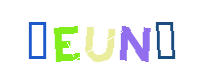2: (86, 0, 166, 80)
9: (24, 0, 104, 80)
E: (59, 0, 139, 80)
N: (69, 0, 149, 80)
U: (62, 0, 142, 80)
